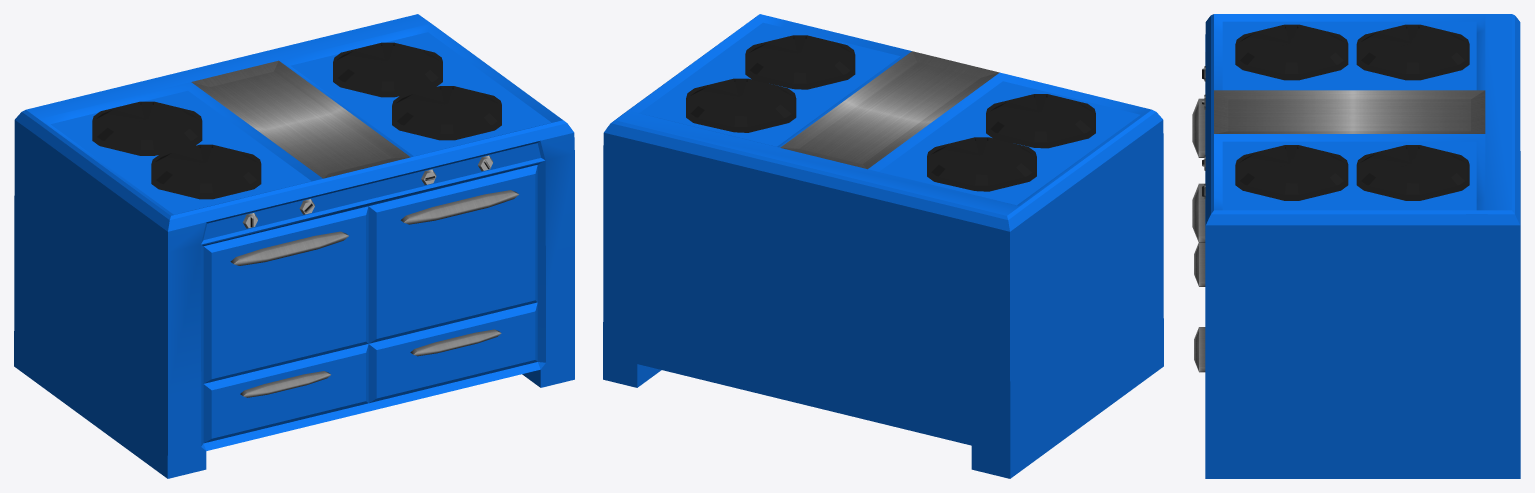
The model's file is Stove_And_Oven_05.FBX.
The picture shows the model from 3 angles, left to right: view 1: azimuth 30°, elevation 25°; view 2: azimuth 150°, elevation 25°; view 3: azimuth 270°, elevation 25°; orthographic projection. The views are drawn at different scales.
Parts seen in each view (by area): view 1: Oven/Stove; view 2: Oven/Stove; view 3: Oven/Stove.
Boxes of the visible parts, <box> form: Oven/Stove: <box>14,14,574,478</box>; Oven/Stove: <box>603,14,1163,478</box>; Oven/Stove: <box>1192,14,1520,478</box>.
Size of the model in its own units: 230 by 143 by 157.
